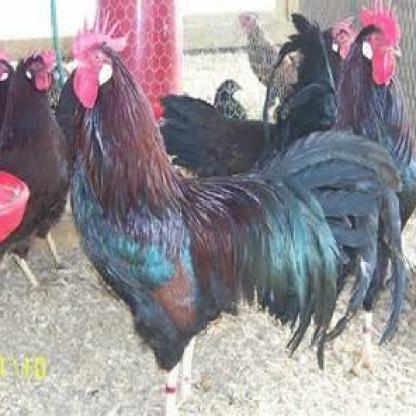chicken: (63, 8, 398, 414), (2, 44, 67, 282), (334, 0, 416, 137)
